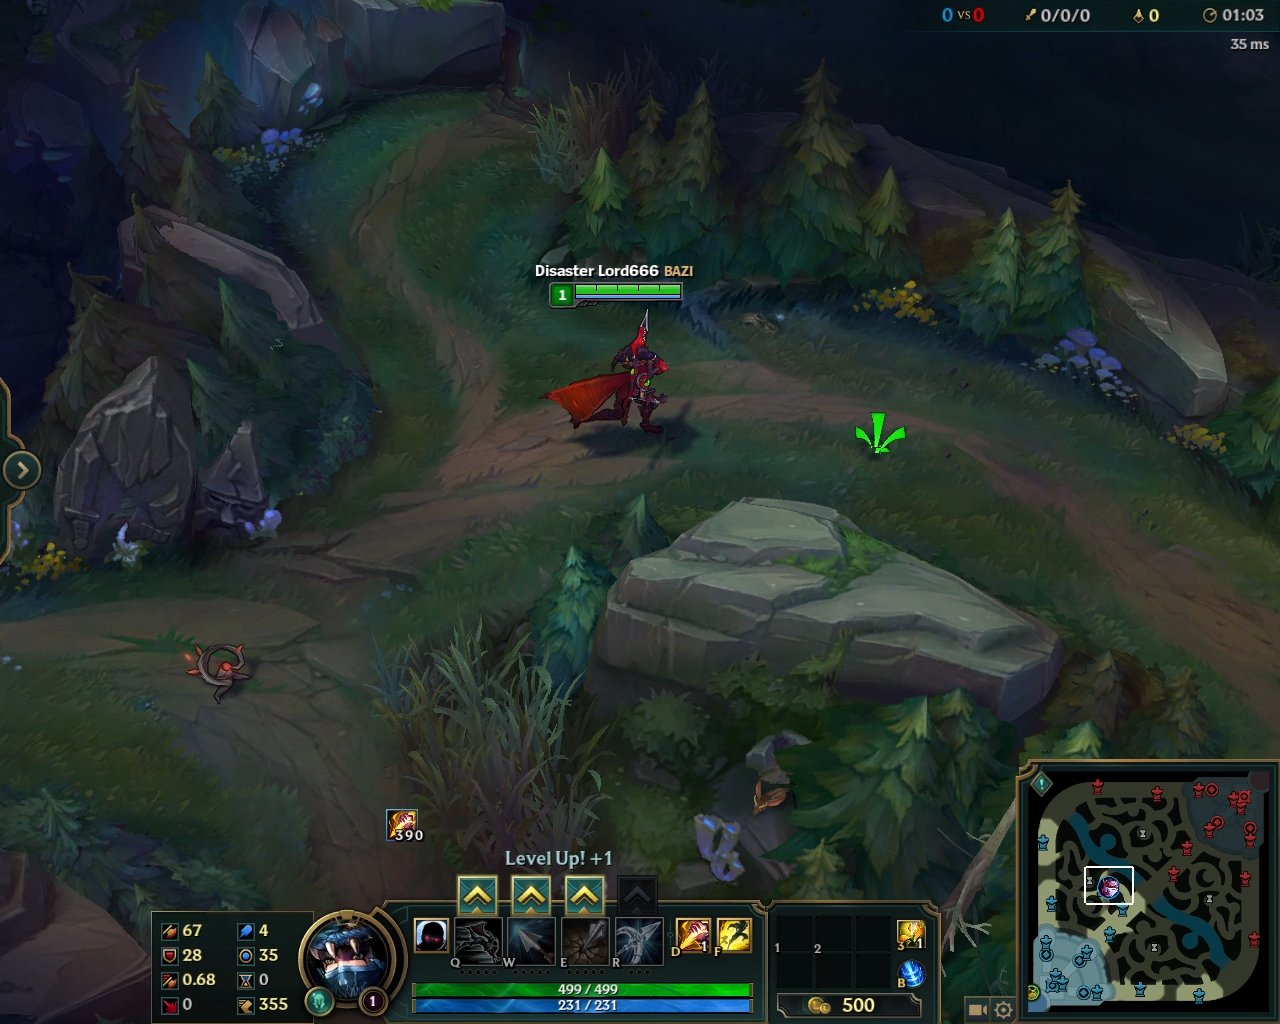Vayne: (535, 306, 671, 441)
